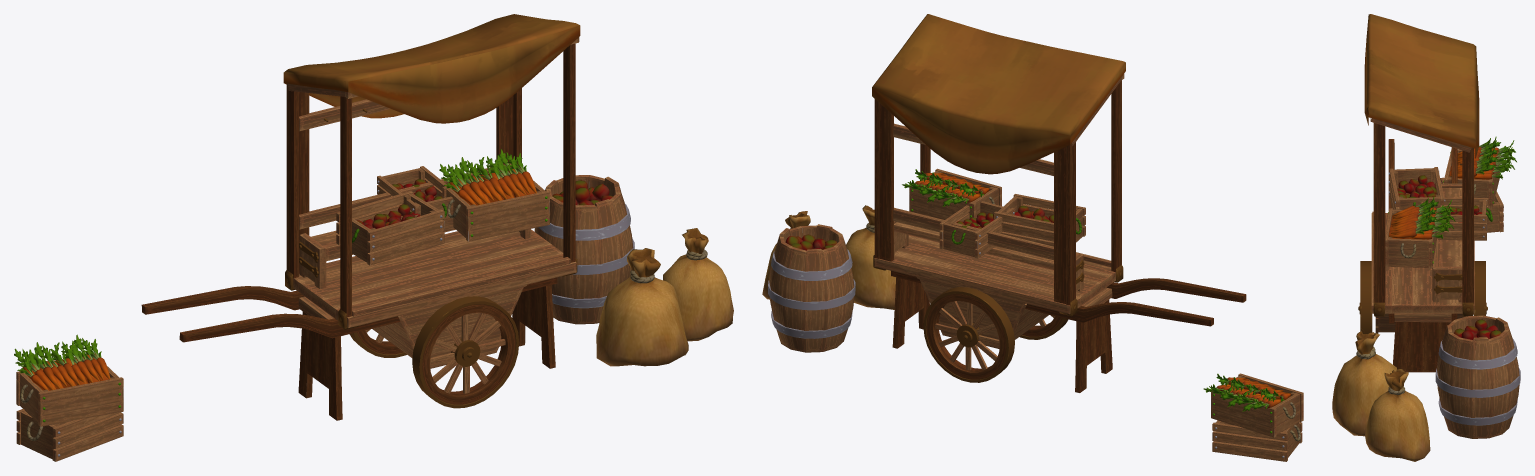
The model's file is MarketStall.glb.
3 renders of one model, left to right at view 1: azimuth 30°, elevation 25°; view 2: azimuth 150°, elevation 25°; view 3: azimuth 270°, elevation 25°, orthographic. The views are drawn at different scales.
Visible parts, largest first — view 1: Stall_Cart_Empty, Barrel_Apples, Bag, FarmCrate_Carrot.002, FarmCrate_Carrot, FarmCrate_Apple, Bag.001, FarmCrate_Empty, FarmCrate_Apple.001; view 2: Stall_Cart_Empty, Barrel_Apples, FarmCrate_Carrot.002, FarmCrate_Carrot, Bag, FarmCrate_Apple, FarmCrate_Empty, FarmCrate_Apple.001; view 3: Stall_Cart_Empty, Barrel_Apples, Bag.001, Bag, FarmCrate_Carrot, FarmCrate_Carrot.002, FarmCrate_Apple, FarmCrate_Apple.001, FarmCrate_Empty.
Part boxes in pixels (left/top/right/bottom): Stall_Cart_Empty: left=141, top=14, right=580, bottom=420; Barrel_Apples: left=534, top=175, right=634, bottom=324; Bag: left=596, top=248, right=688, bottom=366; FarmCrate_Carrot.002: left=14, top=334, right=123, bottom=426; FarmCrate_Carrot: left=439, top=149, right=549, bottom=241; FarmCrate_Apple: left=336, top=191, right=444, bottom=265; Bag.001: left=663, top=228, right=733, bottom=341; FarmCrate_Empty: left=16, top=408, right=123, bottom=461; FarmCrate_Apple.001: left=377, top=166, right=455, bottom=228; Stall_Cart_Empty: left=872, top=14, right=1246, bottom=392; Barrel_Apples: left=768, top=224, right=855, bottom=352; FarmCrate_Carrot.002: left=1203, top=373, right=1303, bottom=437; FarmCrate_Carrot: left=902, top=168, right=1001, bottom=224; Bag: left=846, top=205, right=895, bottom=309; FarmCrate_Apple: left=994, top=194, right=1085, bottom=246; FarmCrate_Empty: left=1212, top=420, right=1302, bottom=461; FarmCrate_Apple.001: left=939, top=201, right=1014, bottom=258; Stall_Cart_Empty: left=1358, top=14, right=1487, bottom=385; Barrel_Apples: left=1435, top=315, right=1520, bottom=438; Bag.001: left=1365, top=369, right=1430, bottom=461; Bag: left=1332, top=330, right=1396, bottom=436; FarmCrate_Carrot: left=1385, top=196, right=1455, bottom=268; FarmCrate_Carrot.002: left=1443, top=136, right=1516, bottom=208; FarmCrate_Apple: left=1388, top=167, right=1445, bottom=209; FarmCrate_Apple.001: left=1420, top=197, right=1492, bottom=240; FarmCrate_Empty: left=1440, top=177, right=1503, bottom=232.
Bounding box in the file's own units: 5.17 × 2.64 × 1.54.
Materials: 16 (16 with a texture image).
